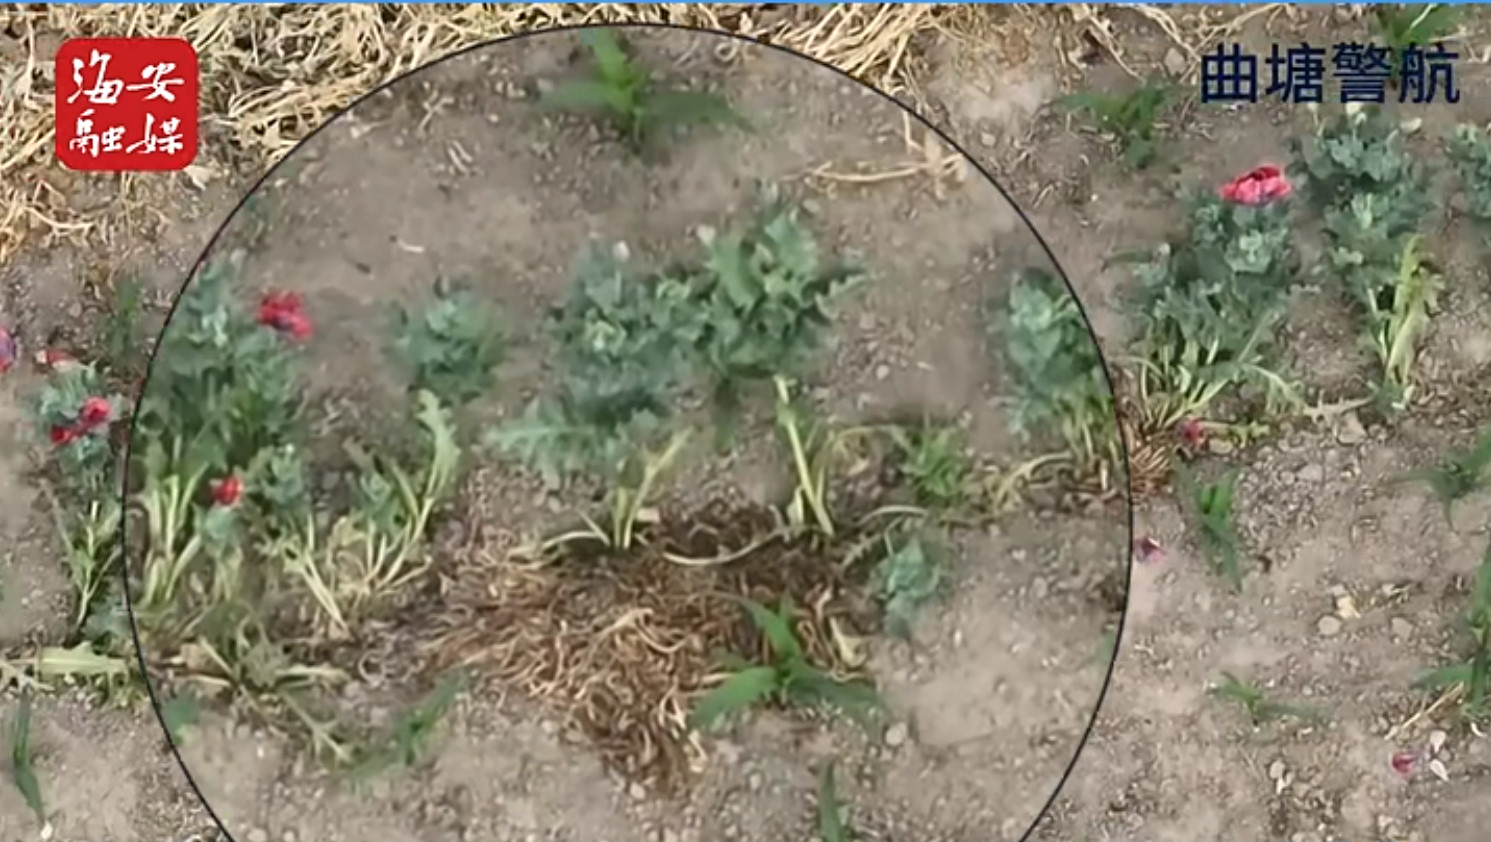Poppy: (526, 198, 874, 560), (41, 278, 325, 652), (1111, 135, 1314, 447), (360, 264, 503, 606), (1305, 110, 1462, 416), (982, 264, 1126, 490)
